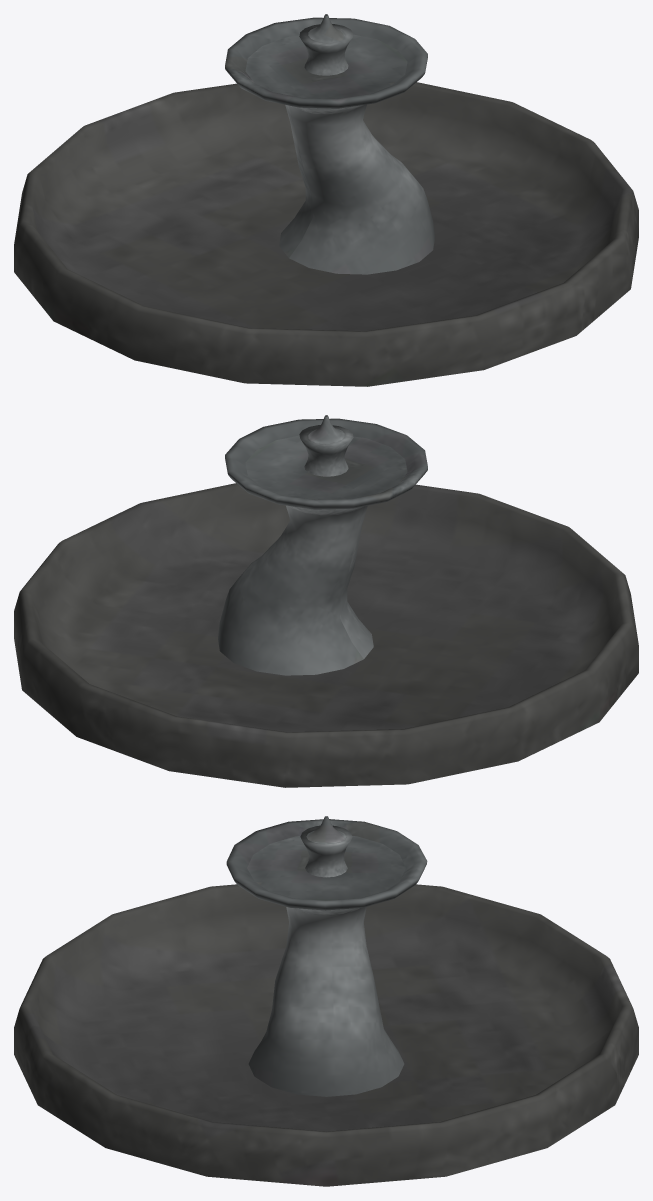
Rendered from Chafariz.fbx.
3 views of the same model, one above another, from view 1: azimuth 30°, elevation 25°; view 2: azimuth 150°, elevation 25°; view 3: azimuth 270°, elevation 25° (orthographic).
Parts seen in each view (by area): view 1: Cylinder; view 2: Cylinder; view 3: Cylinder.
Part boxes in pixels (x1=…): Cylinder: x1=14, y1=14, x2=638, y2=386; Cylinder: x1=14, y1=415, x2=638, y2=787; Cylinder: x1=14, y1=816, x2=638, y2=1186.
Bounding box in the file's own units: 200 × 83.98 × 200.
